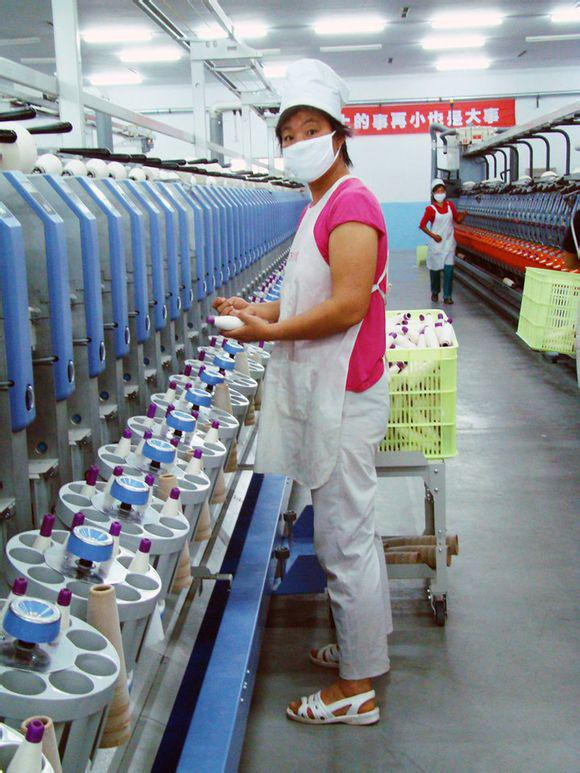OK: (280, 117, 337, 174), (436, 190, 448, 203)
